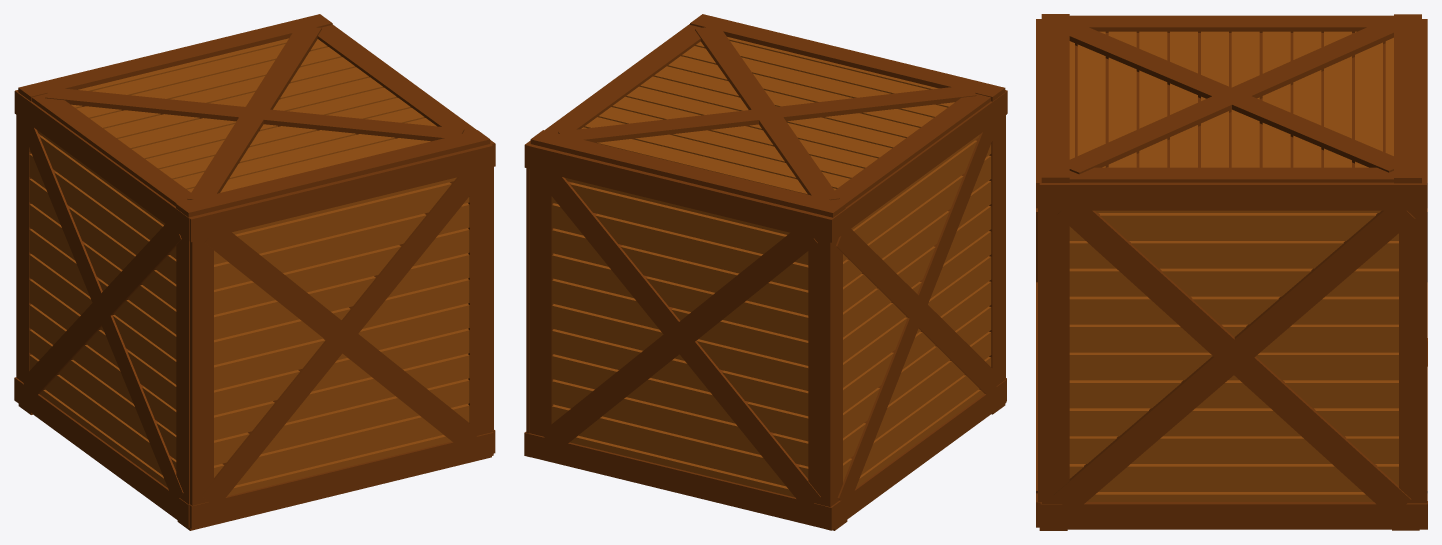
File: Prueba.fbx
The picture shows the model from 3 angles, left to right: view 1: azimuth 30°, elevation 25°; view 2: azimuth 150°, elevation 25°; view 3: azimuth 270°, elevation 25°; orthographic projection. The views are drawn at different scales.
Parts seen in each view (by area): view 1: Cube.010; view 2: Cube.010; view 3: Cube.010.
Boxes of the visible parts, bbox=[...] form: Cube.010: bbox=[14, 14, 495, 530]; Cube.010: bbox=[524, 14, 1007, 530]; Cube.010: bbox=[1036, 14, 1427, 530].
Size of the model in its own units: 211 by 209 by 210.
